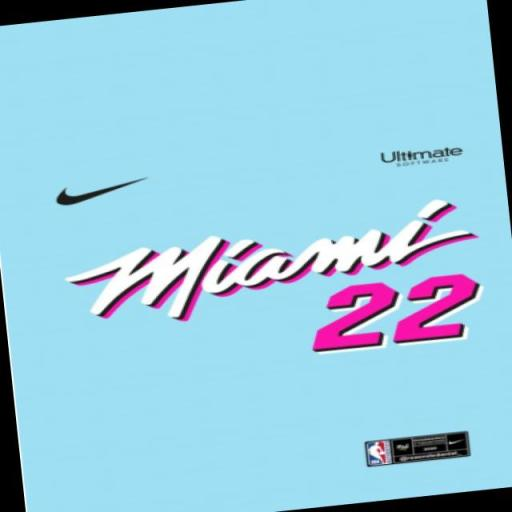Nike: (38, 167, 175, 213)
